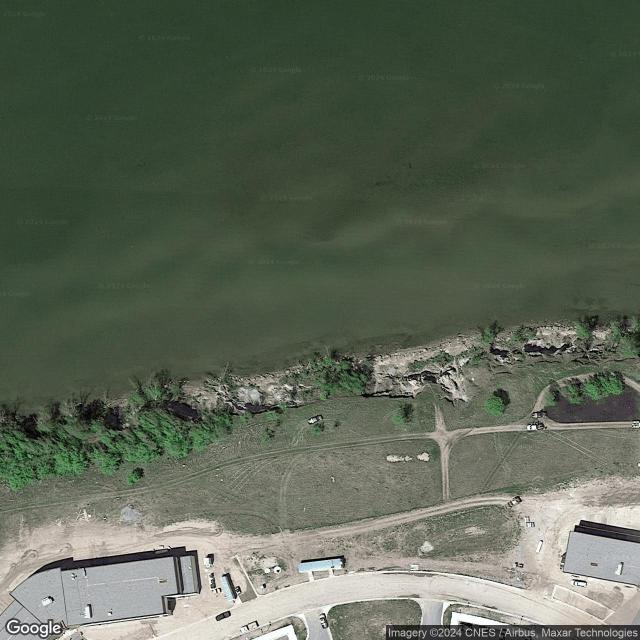Propane: (536, 539, 544, 554), (155, 548, 169, 554)
